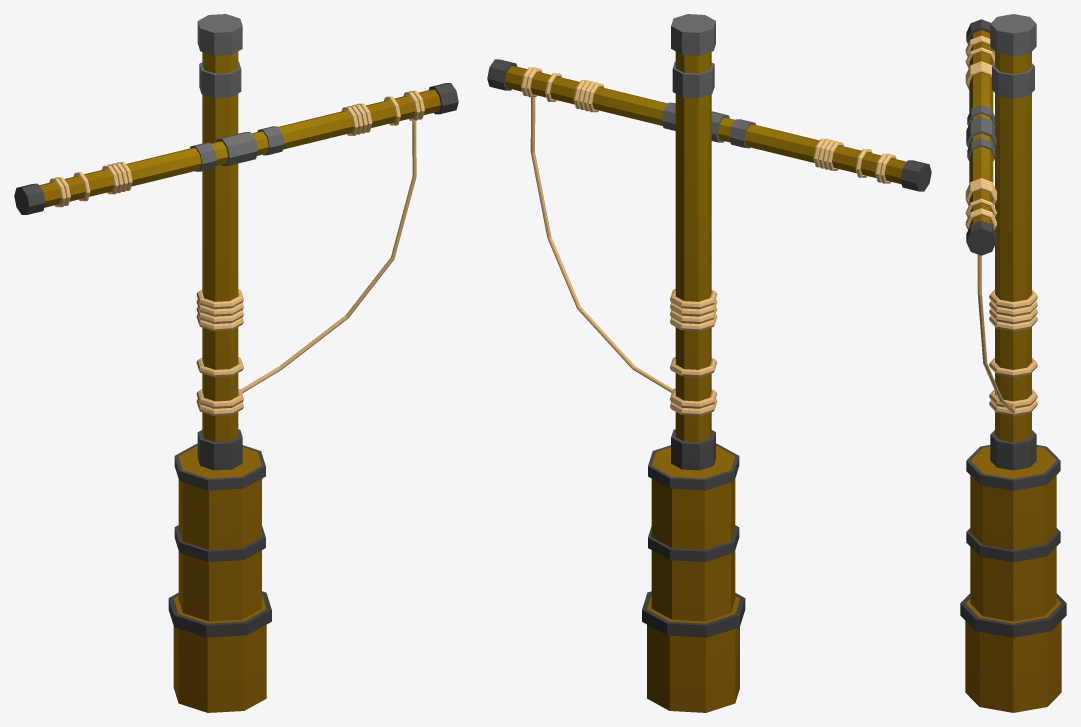
The model's file is wooden-post-3.glb.
3 views of the same model, side by side, from view 1: azimuth 30°, elevation 25°; view 2: azimuth 150°, elevation 25°; view 3: azimuth 270°, elevation 25° (orthographic).
Visible parts, largest first — view 1: wooden post 3; view 2: wooden post 3; view 3: wooden post 3.
Part boxes in pixels (bbox=[...]): wooden post 3: bbox=[14, 14, 458, 712]; wooden post 3: bbox=[487, 14, 931, 712]; wooden post 3: bbox=[960, 14, 1066, 712].
Size of the model in its own units: 6.44 by 9.6 by 1.39.
1 material, 1 textured.
